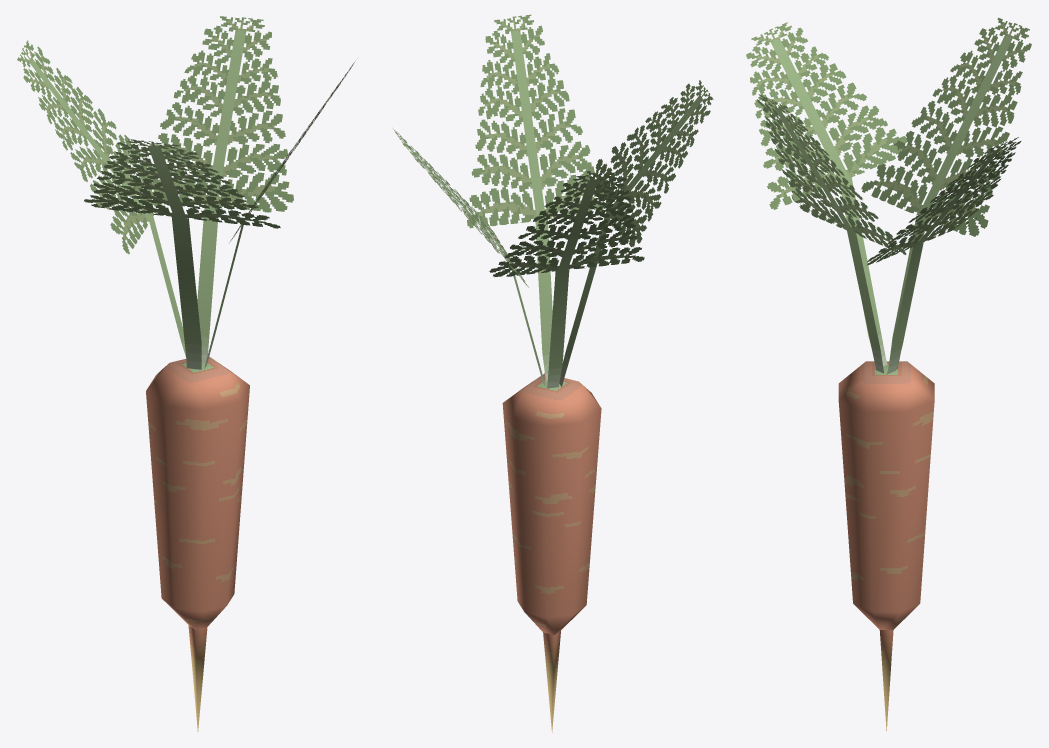
File: 03bf_Carrot.glb
3 views of the same model, side by side, from view 1: azimuth 30°, elevation 25°; view 2: azimuth 150°, elevation 25°; view 3: azimuth 270°, elevation 25° (orthographic). The views are drawn at different scales.
Parts seen in each view (by area): view 1: part_0; view 2: part_0; view 3: part_0.
Part boxes in pixels (box(x1,y1,x2,y2)): part_0: box(17, 16, 354, 731); part_0: box(393, 14, 713, 732); part_0: box(746, 17, 1031, 731).
Bounding box in the file's own units: 0.1941 × 0.5091 × 0.1969.
Materials: 1 (1 with a texture image).
